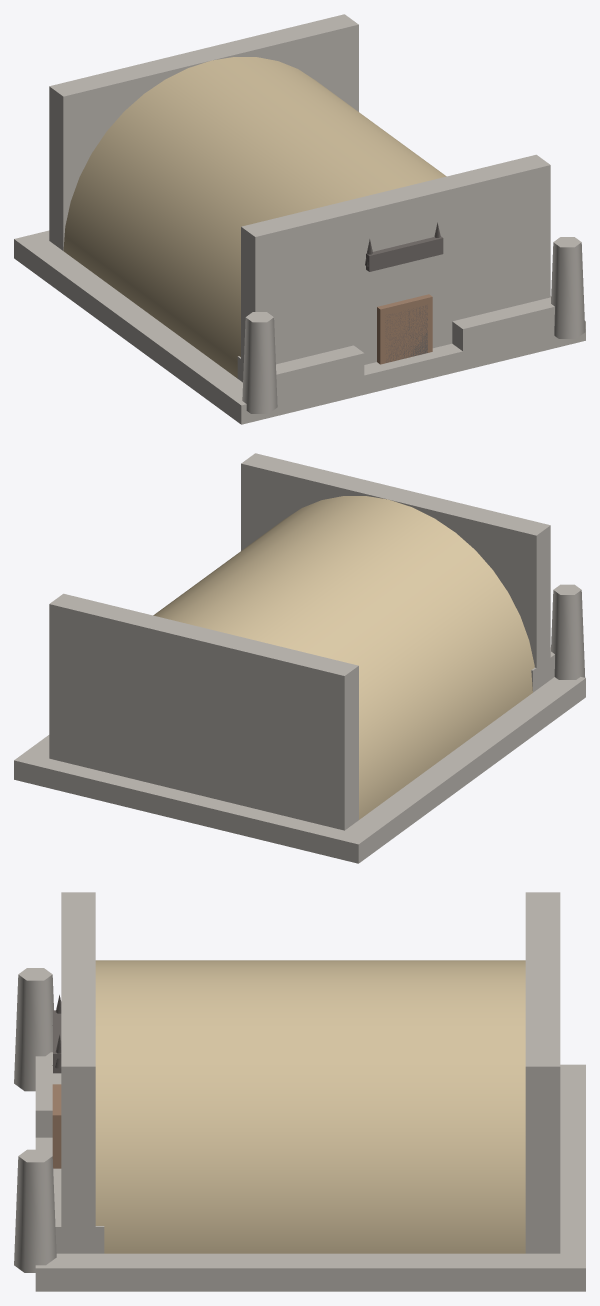
The model's file is toda_mund_hut.glb.
3 views of the same model, one above another, from view 1: azimuth 30°, elevation 25°; view 2: azimuth 150°, elevation 25°; view 3: azimuth 270°, elevation 25° (orthographic). The views are drawn at different scales.
Visible parts, largest first — view 1: Arched_Thatch_Roof_Node, Front_Facade_Wall_Node, Stone_Plinth_Base_Node, Rear_Facade_Wall_Node, Sitting_Bench_R_Node, Doorway_Frame_Node, Corral_Post_0_Node, Corral_Post_1_Node, Sitting_Bench_L_Node, Buffalo_Horn_Crest_Node, Doorway_Recess_Node; view 2: Arched_Thatch_Roof_Node, Rear_Facade_Wall_Node, Stone_Plinth_Base_Node, Front_Facade_Wall_Node, Corral_Post_0_Node; view 3: Arched_Thatch_Roof_Node, Stone_Plinth_Base_Node, Rear_Facade_Wall_Node, Front_Facade_Wall_Node, Corral_Post_1_Node, Corral_Post_0_Node, Sitting_Bench_L_Node, Sitting_Bench_R_Node, Doorway_Frame_Node.
Boxes of the visible parts, x1,y1,x2,y2 form: Arched_Thatch_Roof_Node: [63, 57, 446, 378]; Front_Facade_Wall_Node: [241, 154, 550, 382]; Stone_Plinth_Base_Node: [14, 230, 585, 424]; Rear_Facade_Wall_Node: [49, 14, 358, 250]; Sitting_Bench_R_Node: [452, 297, 554, 357]; Doorway_Frame_Node: [377, 294, 432, 364]; Corral_Post_0_Node: [242, 312, 277, 413]; Corral_Post_1_Node: [551, 237, 585, 338]; Sitting_Bench_L_Node: [237, 345, 364, 402]; Buffalo_Horn_Crest_Node: [366, 236, 443, 271]; Doorway_Recess_Node: [385, 305, 427, 362]; Arched_Thatch_Roof_Node: [153, 496, 534, 819]; Rear_Facade_Wall_Node: [49, 593, 358, 830]; Stone_Plinth_Base_Node: [14, 677, 585, 863]; Front_Facade_Wall_Node: [241, 453, 550, 682]; Corral_Post_0_Node: [551, 584, 585, 679]; Arched_Thatch_Roof_Node: [95, 960, 525, 1253]; Stone_Plinth_Base_Node: [35, 1064, 585, 1291]; Rear_Facade_Wall_Node: [525, 892, 560, 1253]; Front_Facade_Wall_Node: [61, 892, 95, 1253]; Corral_Post_1_Node: [14, 1149, 56, 1272]; Corral_Post_0_Node: [14, 968, 53, 1091]; Sitting_Bench_L_Node: [35, 1052, 61, 1137]; Sitting_Bench_R_Node: [53, 1168, 104, 1253]; Doorway_Frame_Node: [52, 1084, 61, 1168].
Bounding box in the file's own units: 5.6 × 2.7 × 6.65.
